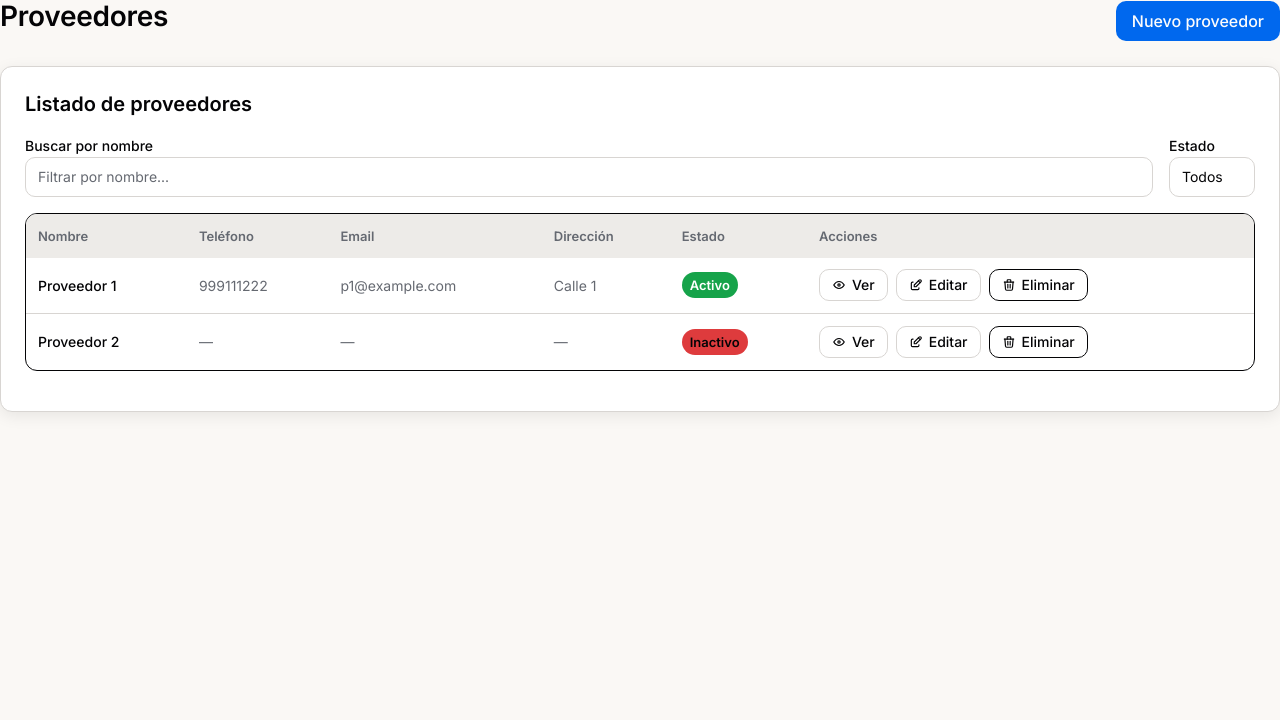
Test: SupplierListPage › deletes a supplier after confirming in the dialog
This screenshot has width=1280, height=720.
Click the button "Eliminar" in the row of "Proveedor 1": (1038, 285) [988,269,1088,301]
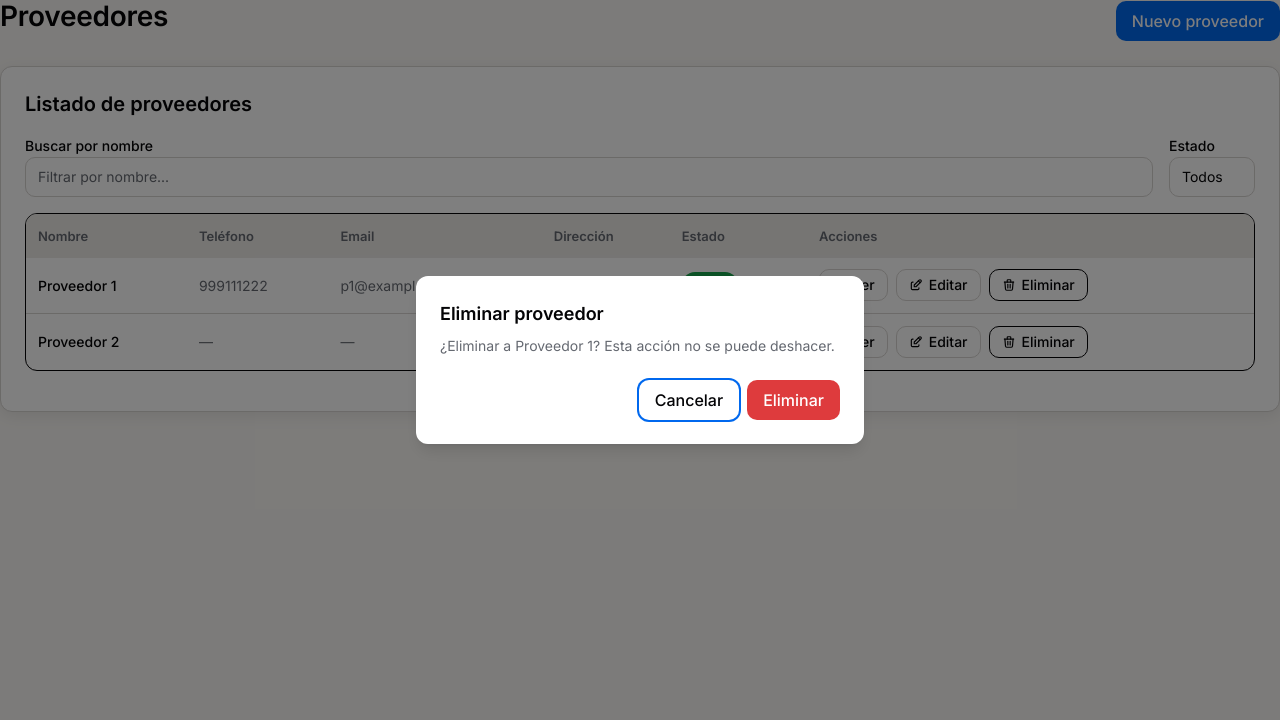
Now the dialog is shown, box [416,276,864,444]
Click the button "Eliminar": (794, 400) [747,380,840,420]
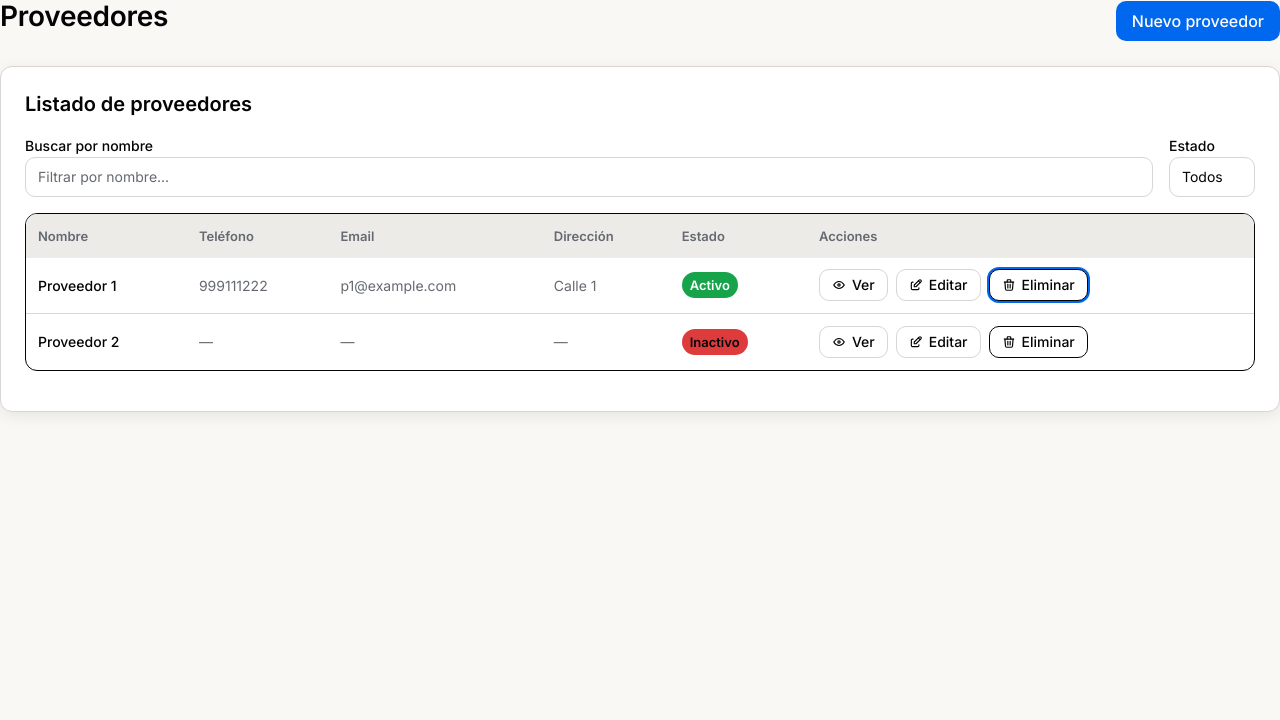
Now the dialog is gone
